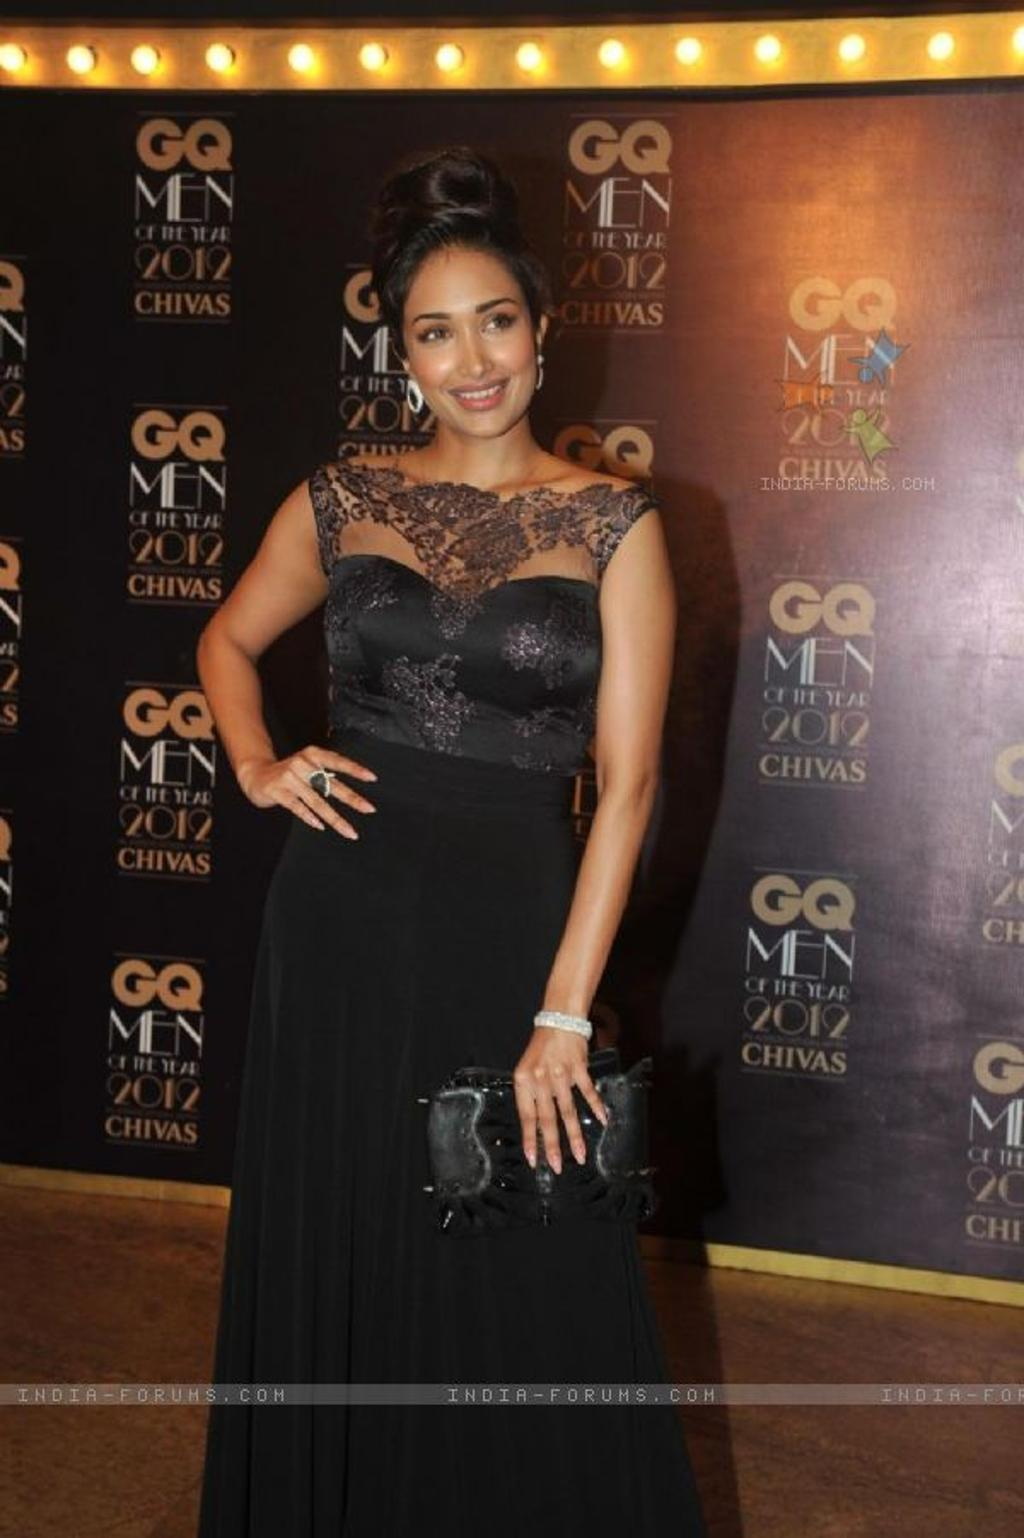face: (405, 243, 537, 441)
